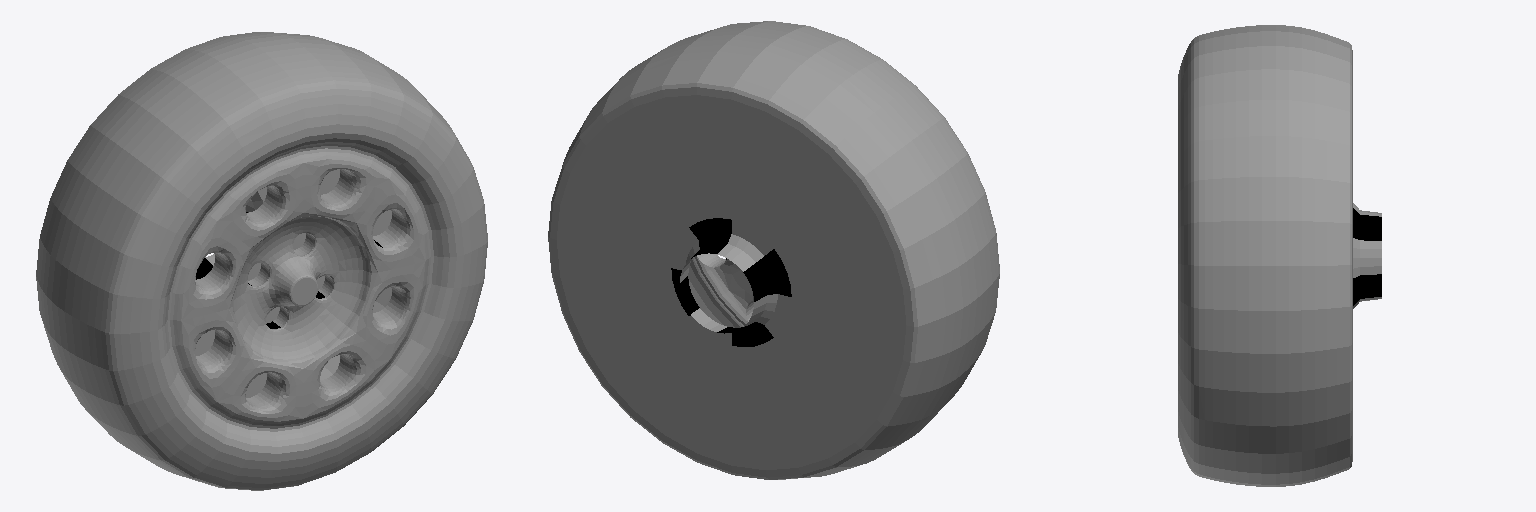
File: llantadef3.obj
3 views of the same model, side by side, from view 1: azimuth 30°, elevation 25°; view 2: azimuth 150°, elevation 25°; view 3: azimuth 270°, elevation 25° (orthographic).
Parts seen in each view (by area): view 1: Cube_001_Malla; view 2: Cube_001_Malla; view 3: Cube_001_Malla.
Boxes of the visible parts, x1=… form: Cube_001_Malla: x1=36, y1=32, x2=487, y2=490; Cube_001_Malla: x1=548, y1=21, x2=999, y2=479; Cube_001_Malla: x1=1178, y1=25, x2=1381, y2=486.
Size of the model in its own units: 3.02 by 3.02 by 1.33.